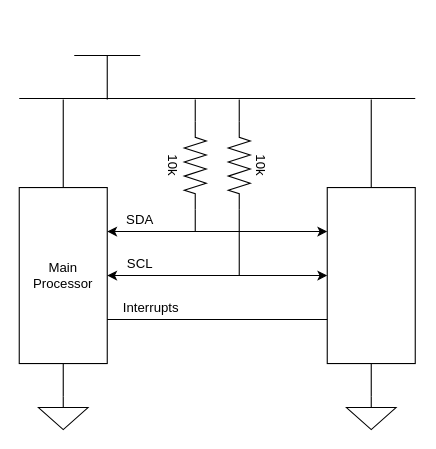
The diagram is 436 pixels wide and 449 high, and some of its shapes have lost their labels. Each missing label, with the centre of its shape:
Distance Sensor: the point at 370,275
V dd: the point at 106,77
